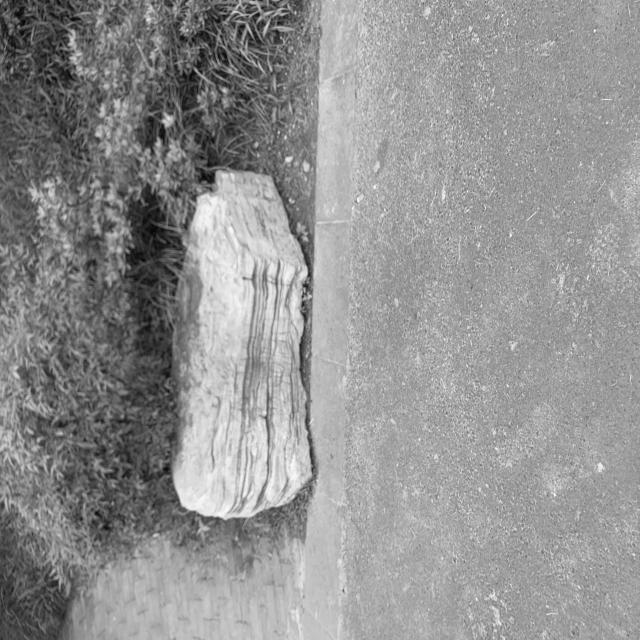Stone: (172, 171, 312, 518)
